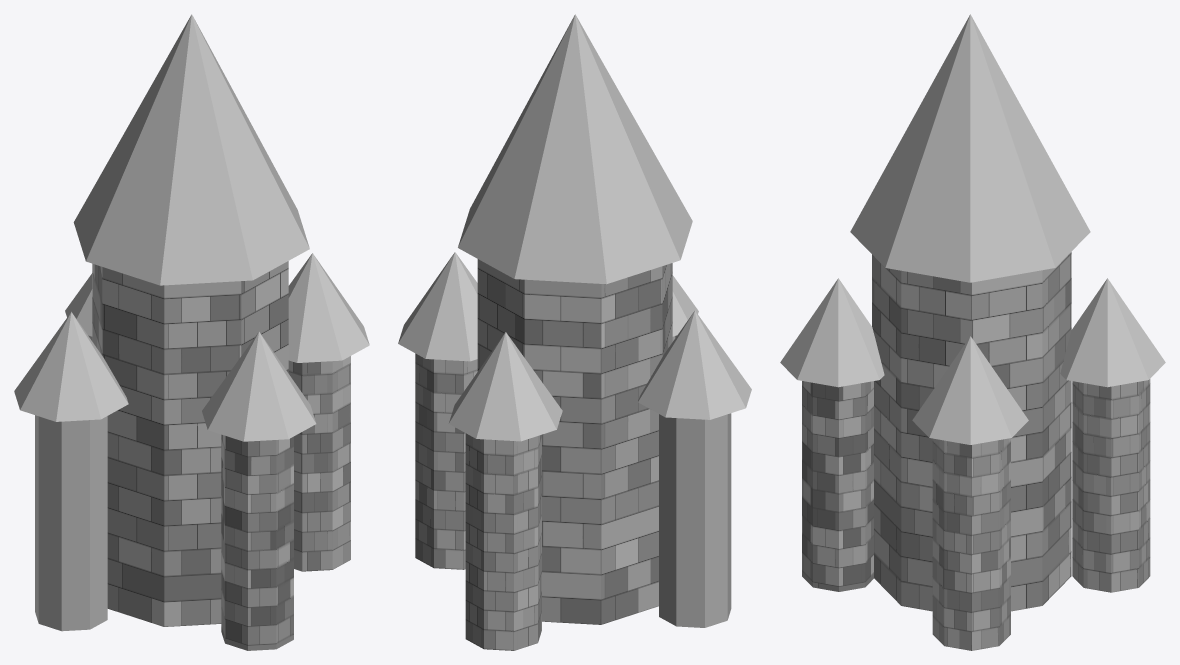
The model's file is Tower.fbx.
3 views of the same model, side by side, from view 1: azimuth 30°, elevation 25°; view 2: azimuth 150°, elevation 25°; view 3: azimuth 270°, elevation 25° (orthographic).
Visible parts, largest first — view 1: BigTurret, BigCone, Turret3, Turret2, Turret4, Tip3, Tip2, Tip4, Tip1; view 2: BigTurret, BigCone, Turret1, Turret2, Turret4, Tip1, Tip2, Tip4, Tip3; view 3: BigTurret, BigCone, Turret4, Turret1, Turret3, Tip4, Tip1, Tip3.
Part boxes in pixels (left/top/right/bottom): BigTurret: left=92, top=261, right=288, bottom=626; BigCone: left=73, top=14, right=309, bottom=285; Turret3: left=221, top=434, right=293, bottom=650; Turret2: left=35, top=415, right=107, bottom=631; Turret4: left=288, top=356, right=350, bottom=571; Tip3: left=202, top=332, right=316, bottom=441; Tip2: left=14, top=312, right=128, bottom=421; Tip4: left=288, top=253, right=369, bottom=362; Tip1: left=65, top=273, right=92, bottom=336; BigTurret: left=477, top=259, right=672, bottom=624; BigCone: left=458, top=14, right=692, bottom=284; Turret1: left=465, top=433, right=541, bottom=650; Turret2: left=659, top=413, right=731, bottom=627; Turret4: left=415, top=353, right=477, bottom=569; Tip1: left=448, top=332, right=562, bottom=441; Tip2: left=638, top=310, right=751, bottom=419; Tip4: left=398, top=252, right=477, bottom=361; Tip3: left=672, top=275, right=698, bottom=336; BigTurret: left=872, top=252, right=1071, bottom=611; BigCone: left=850, top=14, right=1090, bottom=282; Turret4: left=932, top=438, right=1010, bottom=650; Turret1: left=1072, top=379, right=1150, bottom=592; Turret3: left=802, top=381, right=873, bottom=591; Tip4: left=912, top=336, right=1028, bottom=444; Tip1: left=1060, top=278, right=1165, bottom=387; Tip3: left=780, top=278, right=884, bottom=387.
Size of the model in its own units: 1562 by 2485 by 1544.
